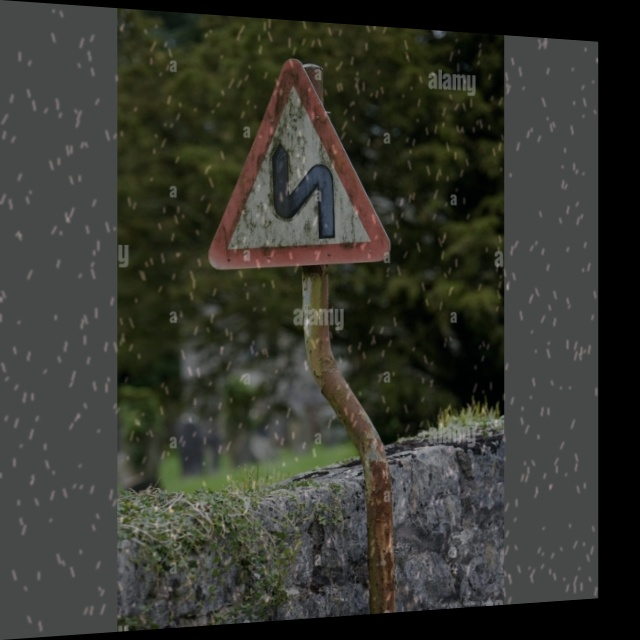Left_Reverse_Bend: (207, 53, 393, 268)
